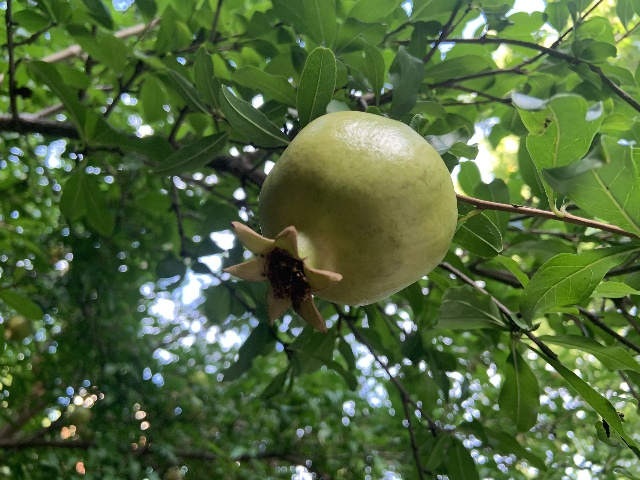mid-growth: (224, 111, 456, 333), (4, 316, 30, 341)
